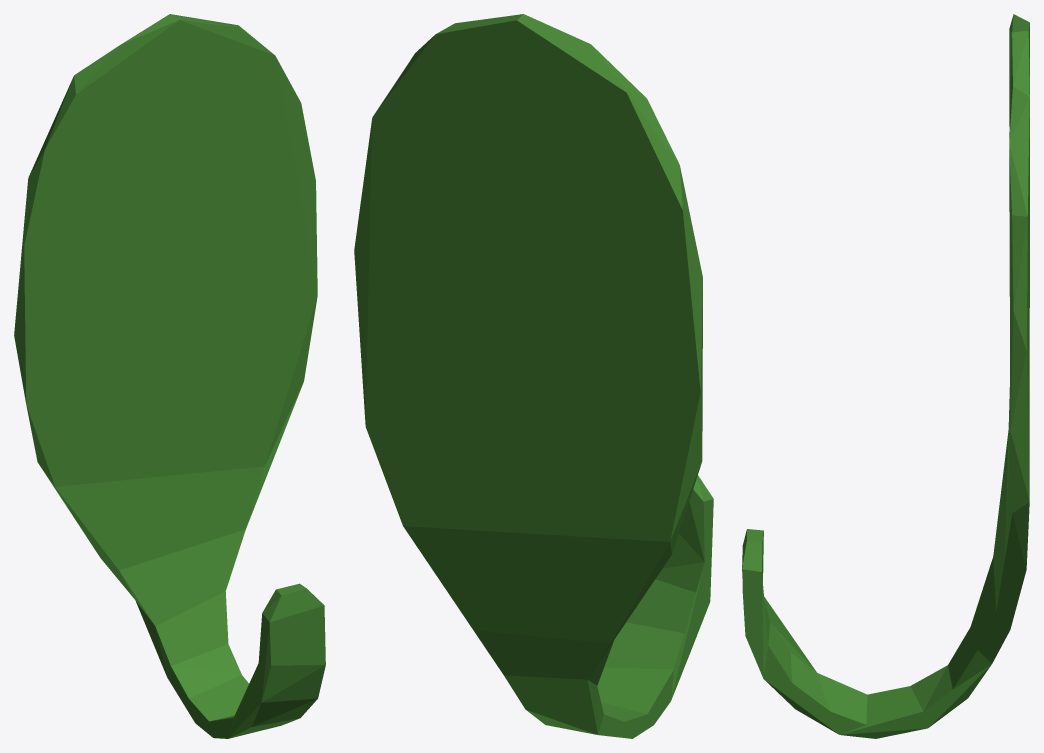
File: Holder.fbx
3 renders of one model, left to right at view 1: azimuth 30°, elevation 25°; view 2: azimuth 150°, elevation 25°; view 3: azimuth 270°, elevation 25°, orthographic. The views are drawn at different scales.
Parts seen in each view (by area): view 1: HolderLowPoly; view 2: HolderLowPoly; view 3: HolderLowPoly.
Boxes of the visible parts, bbox=[...] form: HolderLowPoly: bbox=[14, 14, 325, 738]; HolderLowPoly: bbox=[354, 14, 713, 738]; HolderLowPoly: bbox=[742, 14, 1029, 738].
Bounding box in the file's own units: 1.89 × 4 × 1.5.
